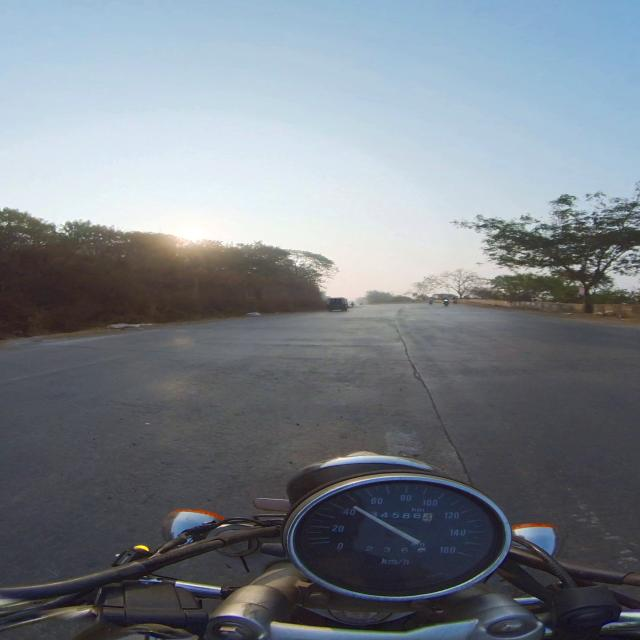motorcycle: (0, 452, 639, 639)
